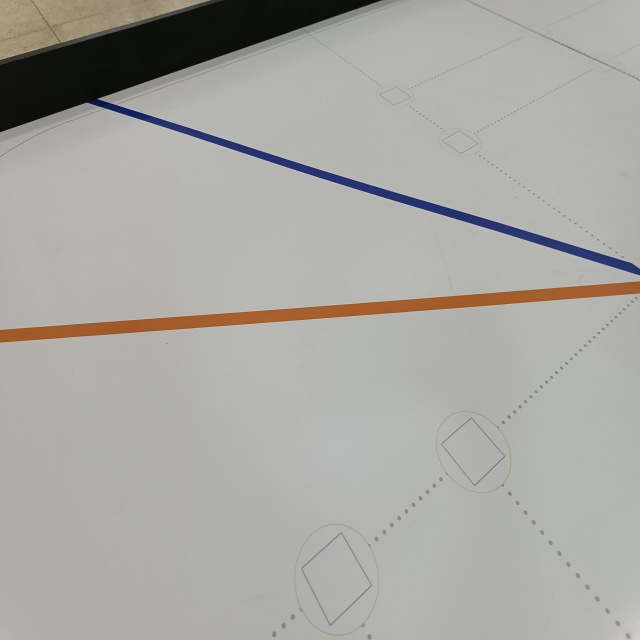blue line: (81, 91, 640, 275)
orange line: (0, 272, 640, 349)
